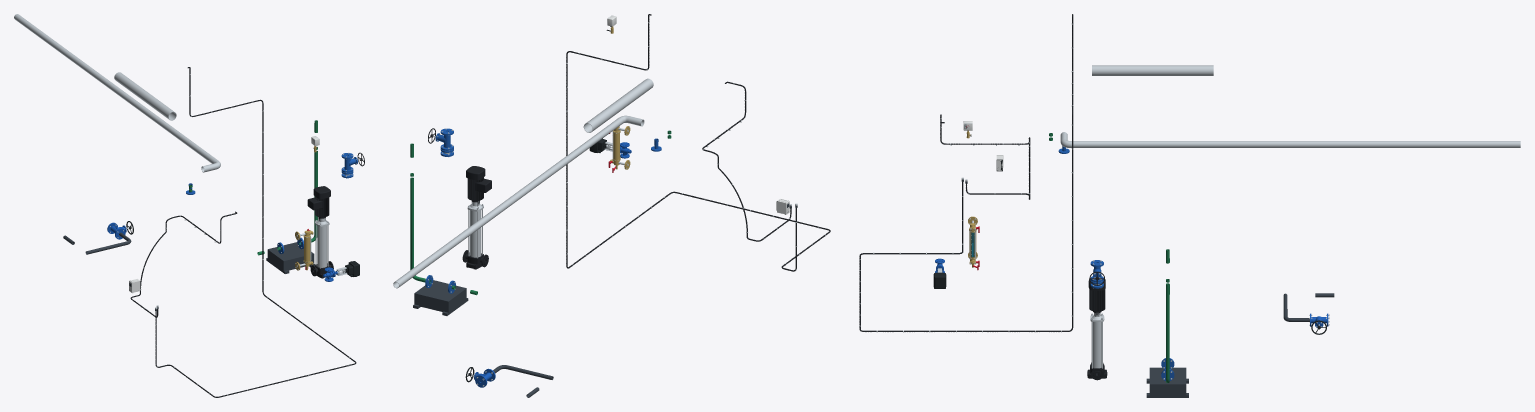
Rendered from s4000-7-CVw6PJre.glb.
The picture shows the model from 3 angles, left to right: view 1: azimuth 30°, elevation 25°; view 2: azimuth 150°, elevation 25°; view 3: azimuth 270°, elevation 25°; orthographic projection. The views are drawn at different scales.
Visible parts, largest first — view 1: safety_vent_2 / steel, gpz_drive_cable / black, pump_branch_2 / dark, steam_delivery / steel, pump_1 CAD solid 15, bcv925 / bcv925_0.npz, sight_glasses_1 / sight_glasses_1_0.npz, wiring_lp200 / black, pump_1 CAD solid 2, pump_branch_2 / green; view 2: safety_vent_2 / steel, gpz_drive_cable / black, pump_branch_2 / dark, steam_delivery / steel, pump_1 CAD solid 15, pump_branch_2 / green, wiring_lp200 / black, sight_glasses_1 / sight_glasses_1_0.npz, pump_1 CAD solid 2, bcv925 / bcv925_0.npz; view 3: safety_vent_2 / steel, gpz_drive_cable / black, steam_delivery / steel, pump_branch_2 / dark.
Part boxes in pixels (<box>): safety_vent_2 / steel: <box>14,14,220,172</box>; gpz_drive_cable / black: <box>155,67,356,397</box>; pump_branch_2 / dark: <box>266,242,314,273</box>; steam_delivery / steel: <box>114,72,176,120</box>; pump_1 CAD solid 15: <box>307,186,330,217</box>; bcv925 / bcv925_0.npz: <box>323,261,359,281</box>; sight_glasses_1 / sight_glasses_1_0.npz: <box>295,229,313,270</box>; wiring_lp200 / black: <box>130,211,237,317</box>; pump_1 CAD solid 2: <box>317,226,327,267</box>; pump_branch_2 / green: <box>257,120,317,255</box>; safety_vent_2 / steel: <box>393,115,644,288</box>; gpz_drive_cable / black: <box>566,14,830,271</box>; pump_branch_2 / dark: <box>413,280,468,315</box>; steam_delivery / steel: <box>583,78,653,132</box>; pump_1 CAD solid 15: <box>466,166,491,201</box>; pump_branch_2 / green: <box>410,143,477,295</box>; wiring_lp200 / black: <box>702,81,791,241</box>; sight_glasses_1 / sight_glasses_1_0.npz: <box>608,126,630,172</box>; pump_1 CAD solid 2: <box>470,210,481,257</box>; bcv925 / bcv925_0.npz: <box>589,138,631,158</box>; safety_vent_2 / steel: <box>1060,132,1520,147</box>; gpz_drive_cable / black: <box>859,14,1073,331</box>; steam_delivery / steel: <box>1092,65,1213,75</box>; pump_branch_2 / dark: <box>1146,367,1188,397</box>.
Size of the model in its own units: 3.8 by 3.47 by 7.03.
